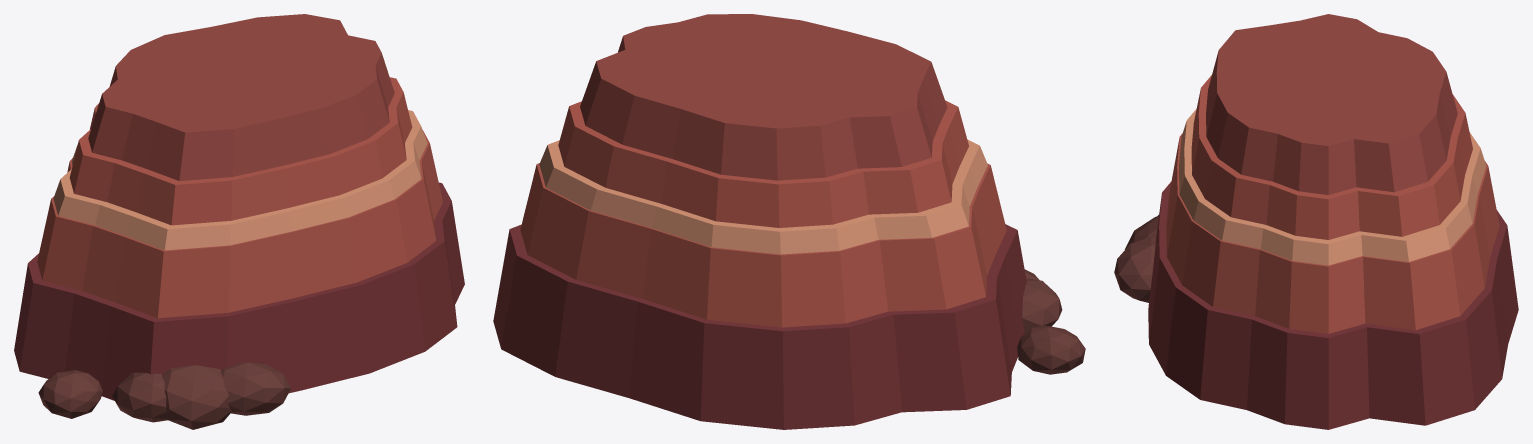
The model's file is SkateButte.obj.
The picture shows the model from 3 angles, left to right: view 1: azimuth 30°, elevation 25°; view 2: azimuth 150°, elevation 25°; view 3: azimuth 270°, elevation 25°; orthographic projection. The views are drawn at different scales.
Visible parts, largest first — view 1: RockMid, RockTop, RockLow, Boulders, Stripe; view 2: RockMid, RockLow, RockTop, Stripe, Boulders; view 3: RockMid, RockLow, RockTop, Stripe, Boulders.
Part boxes in pixels (x1,y1,x2,y2): RockMid: [37, 77, 442, 318]; RockTop: [88, 14, 394, 180]; RockLow: [14, 182, 464, 400]; Boulders: [38, 362, 290, 429]; Stripe: [53, 110, 427, 250]; RockMid: [520, 100, 1006, 327]; RockLow: [493, 224, 1026, 429]; RockTop: [580, 14, 947, 180]; Stripe: [539, 139, 987, 254]; Boulders: [1017, 269, 1085, 374]; RockMid: [1166, 75, 1499, 333]; RockLow: [1148, 182, 1518, 429]; RockTop: [1206, 14, 1457, 194]; Stripe: [1179, 109, 1486, 265]; Boulders: [1114, 215, 1158, 302].
Size of the model in its own units: 78.19 by 42.58 by 59.88.
